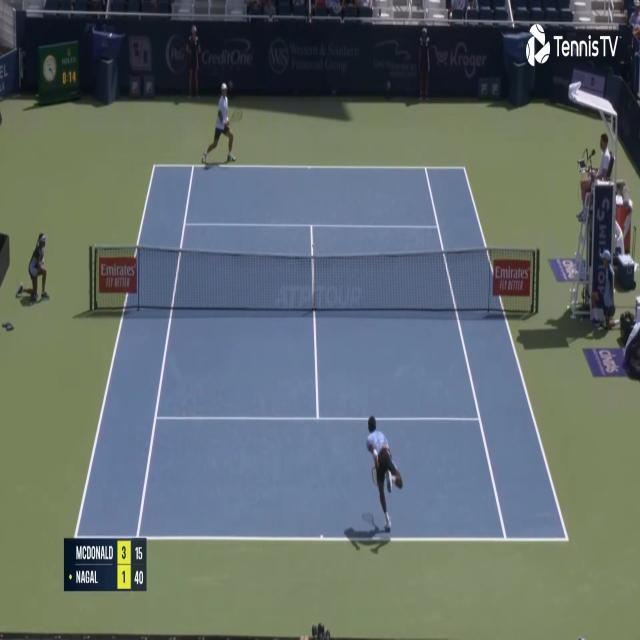tennis-player: (362, 411, 405, 539), (199, 78, 239, 171)
